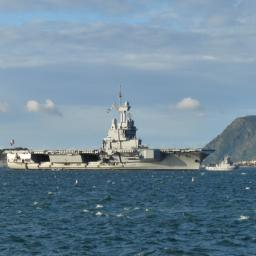Portanaves: (3, 84, 218, 174)
